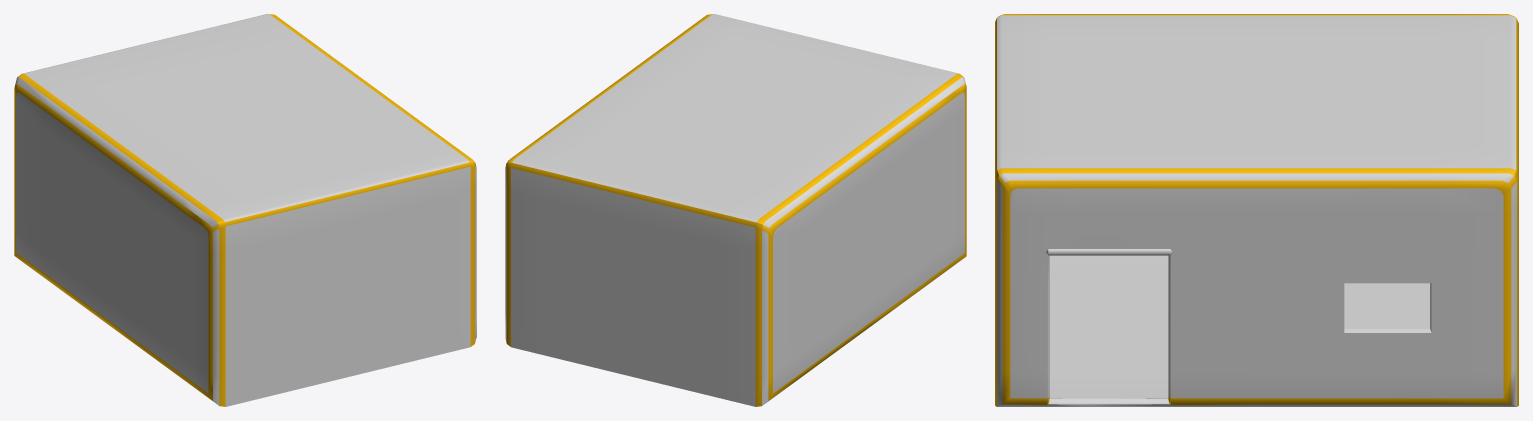
The model's file is smallHouse.fbx.
3 views of the same model, side by side, from view 1: azimuth 30°, elevation 25°; view 2: azimuth 150°, elevation 25°; view 3: azimuth 270°, elevation 25° (orthographic). The views are drawn at different scales.
Visible parts, largest first — view 1: pCube6; view 2: pCube6; view 3: pCube6.
Part boxes in pixels (<box>): pCube6: <box>14,14,476,406</box>; pCube6: <box>505,14,966,406</box>; pCube6: <box>995,14,1518,406</box>.
Bounding box in the file's own units: 151 × 100 × 200.
2 materials, 1 textured.
